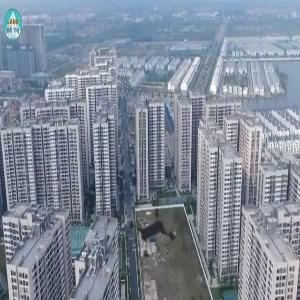drone: (92, 174, 209, 291)
